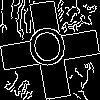O: (25, 25, 71, 78)
